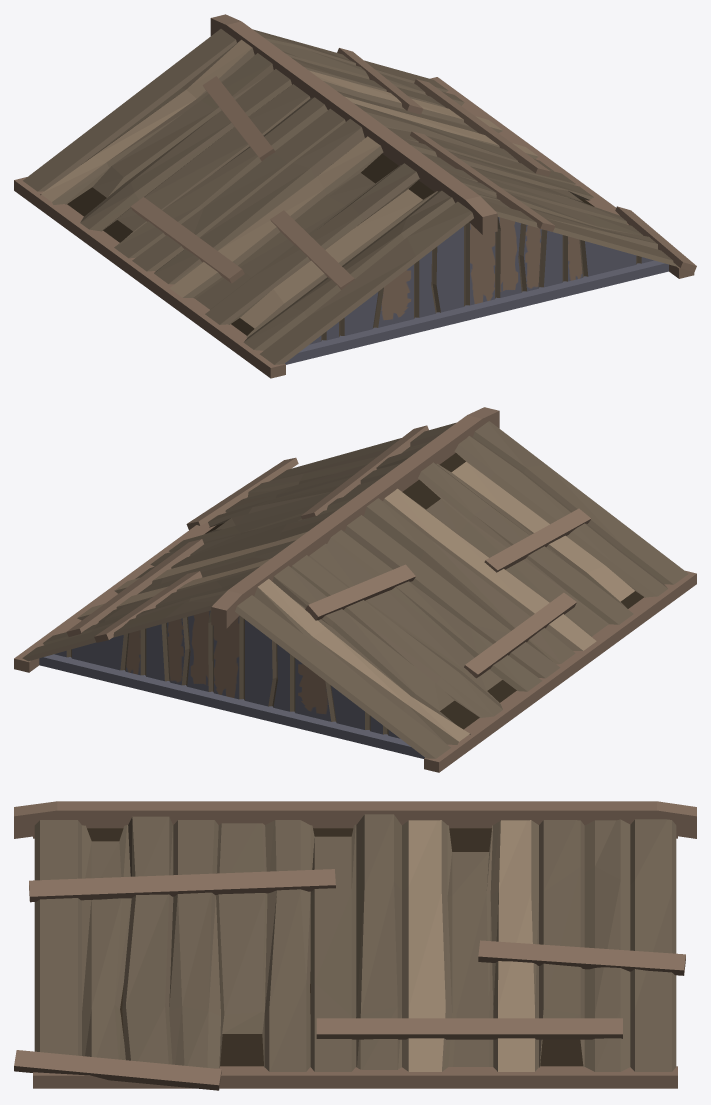
Rendered from SM_Bld_Shanty_Roof_03.glb.
3 renders of one model, top to bottom at view 1: azimuth 30°, elevation 25°; view 2: azimuth 150°, elevation 25°; view 3: azimuth 270°, elevation 25°, orthographic. The views are drawn at different scales.
Visible parts, largest first — view 1: SM_Bld_Shanty_Roof_03_part00; view 2: SM_Bld_Shanty_Roof_03_part00; view 3: SM_Bld_Shanty_Roof_03_part00.
Part boxes in pixels (<box>): SM_Bld_Shanty_Roof_03_part00: <box>14,14,696,378</box>; SM_Bld_Shanty_Roof_03_part00: <box>14,407,696,772</box>; SM_Bld_Shanty_Roof_03_part00: <box>14,801,696,1090</box>.
Bounding box in the file's own units: 5.48 × 1.47 × 5.94.
1 material, 1 textured.
